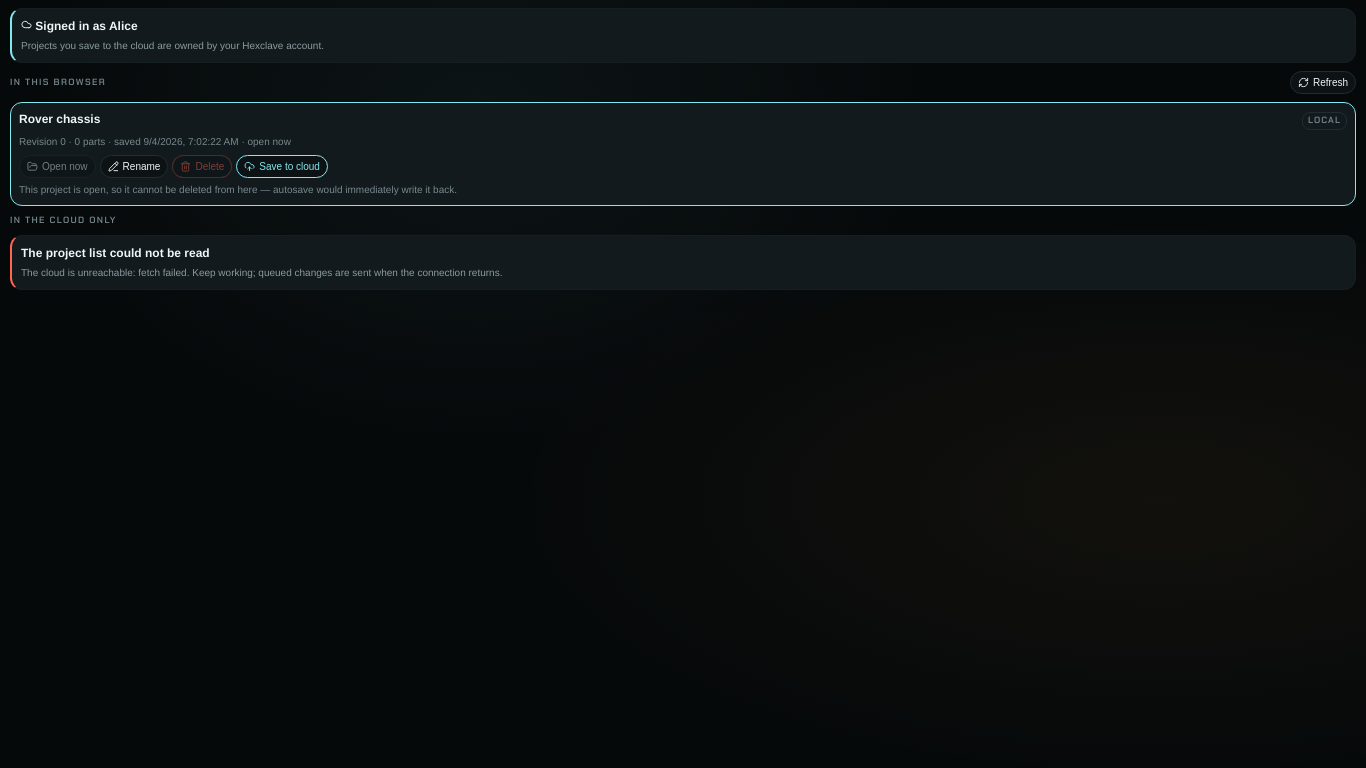
Projects panel — mutations › reports a refused claim instead of showing the project as saved
Expected: the text "Rover chassis" is shown, top-left (19, 110), bottom-right (100, 128)
Click the button "Save to cloud" at (282, 166), box top-left (236, 154), bottom-right (328, 178)
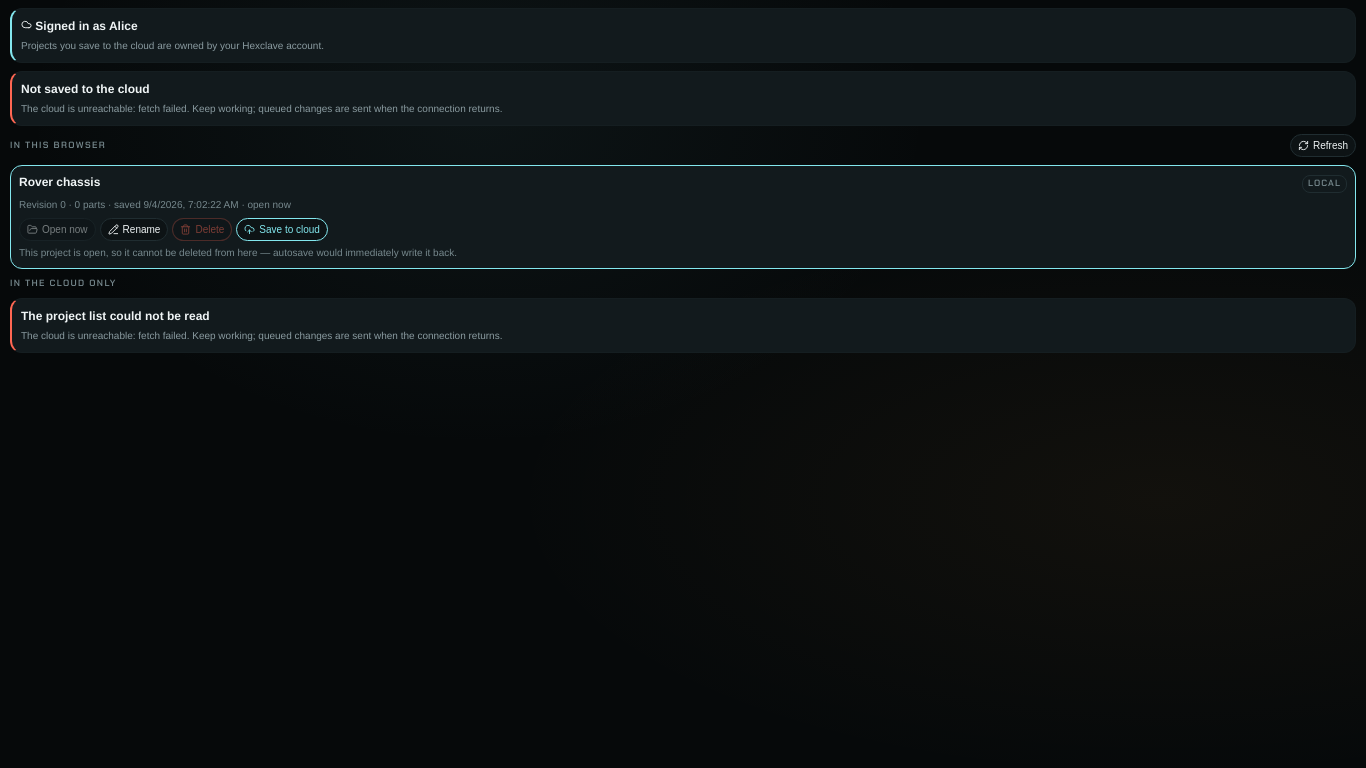
Expected: the button "Save to cloud" is shown, top-left (236, 218), bottom-right (328, 240)
Result: the text "Not saved to the cloud" is shown at top-left (21, 82), bottom-right (150, 96)
